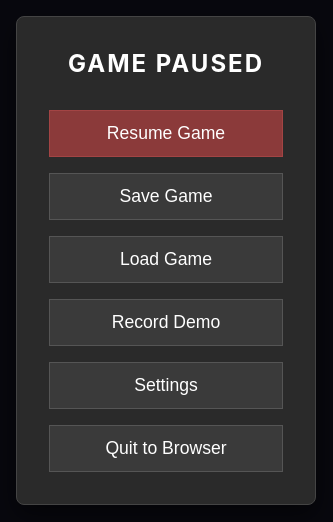
it: GameMenu › starts recording
Click the button "Record Demo".
click(166, 322)  # box [49, 298, 283, 346]
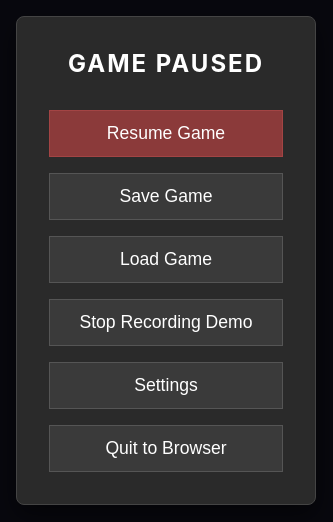
Result: the button "Stop Recording Demo" is shown at [49, 298, 283, 346]
